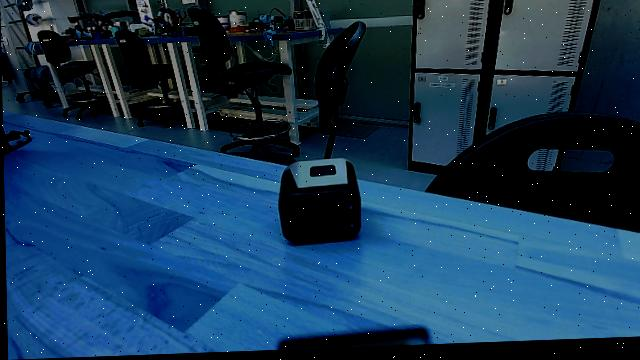adapter: (277, 157, 362, 251)
